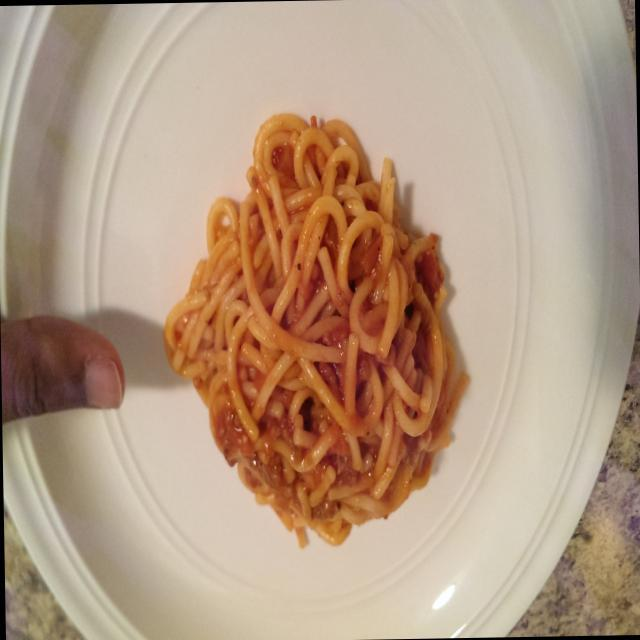Pasta: (148, 92, 510, 568)
